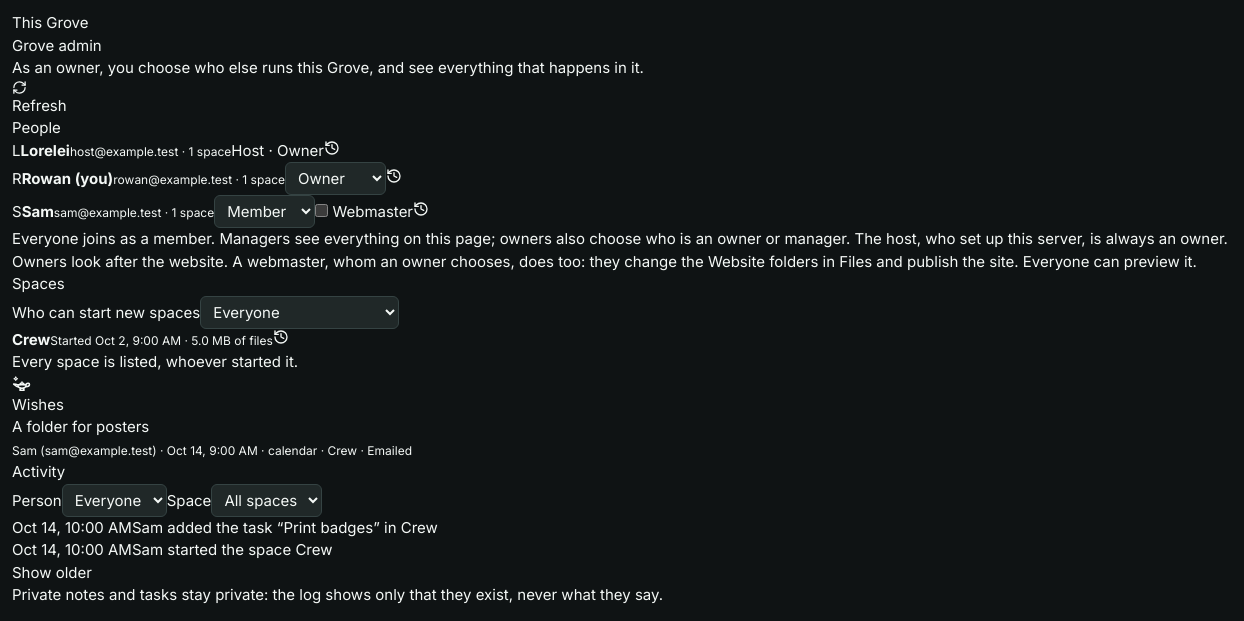
Test: filters the log by person or space, and pages back through it
Expected: the text "Sam started the space Crew" is shown, [132, 540, 332, 559]
Select "Sam" in the dropdown labelled "Person" at {"x": 114, "y": 500}, box [62, 484, 167, 516]
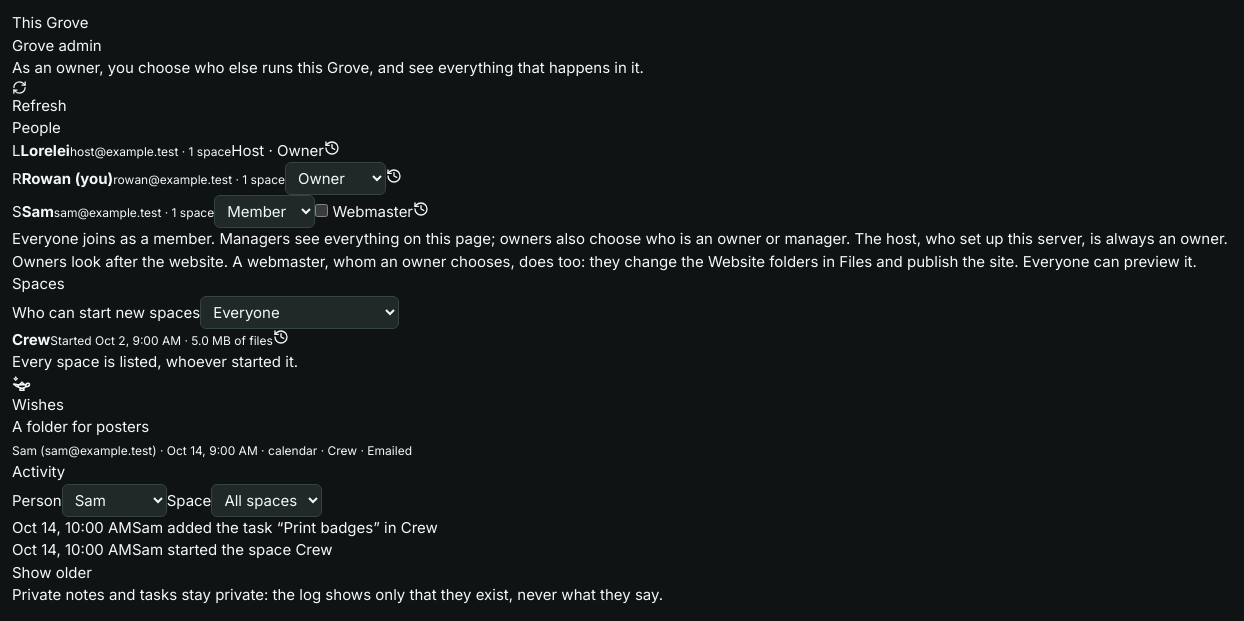
Click the button named "Activity in Crew" at {"x": 281, "y": 336}, box [273, 328, 289, 344]
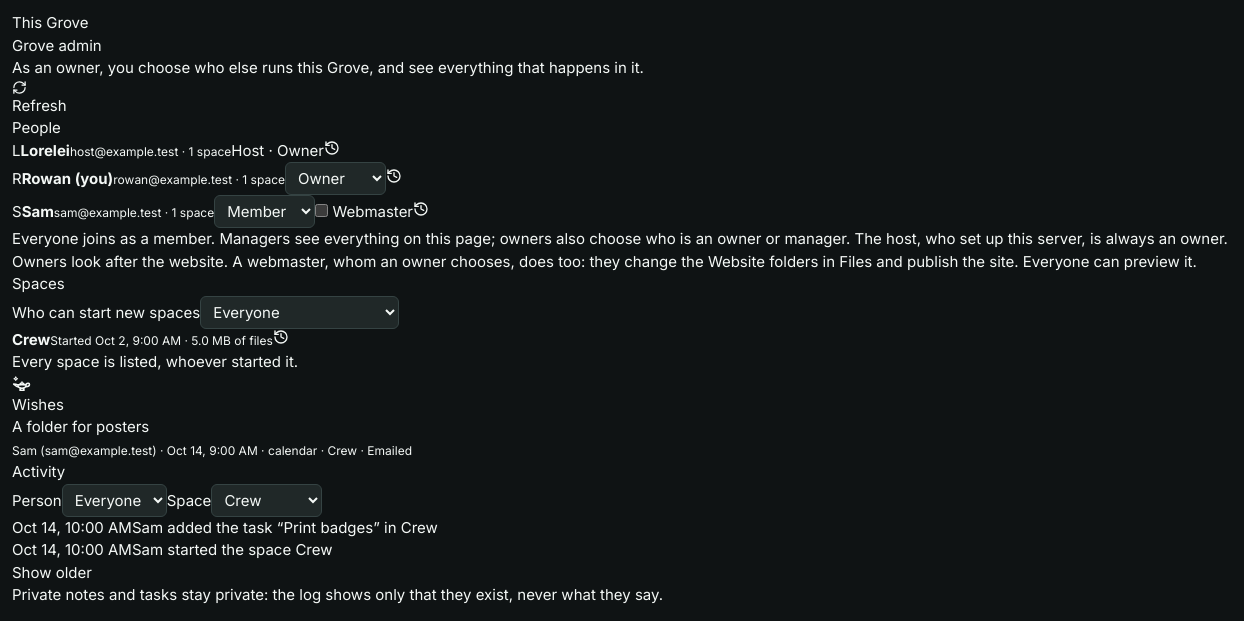
Click the button "Show older" at {"x": 52, "y": 573}, box [12, 562, 92, 584]
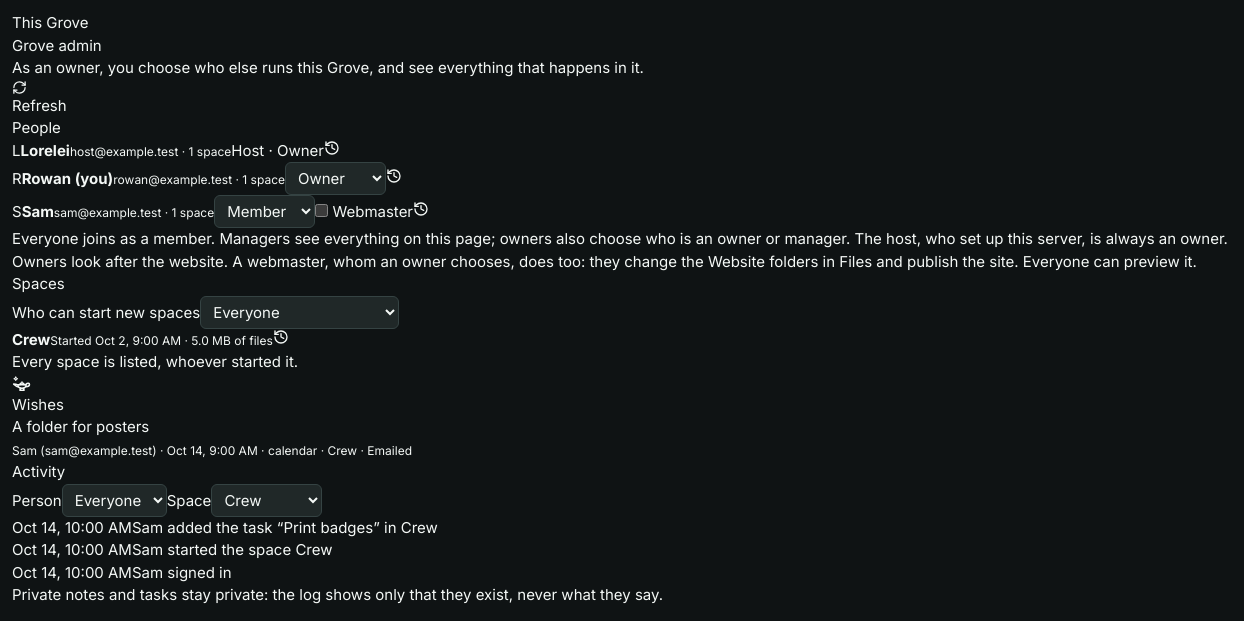
Result: the text "Sam signed in" is shown at [132, 562, 232, 582]
Result: the button "Show older" is gone
